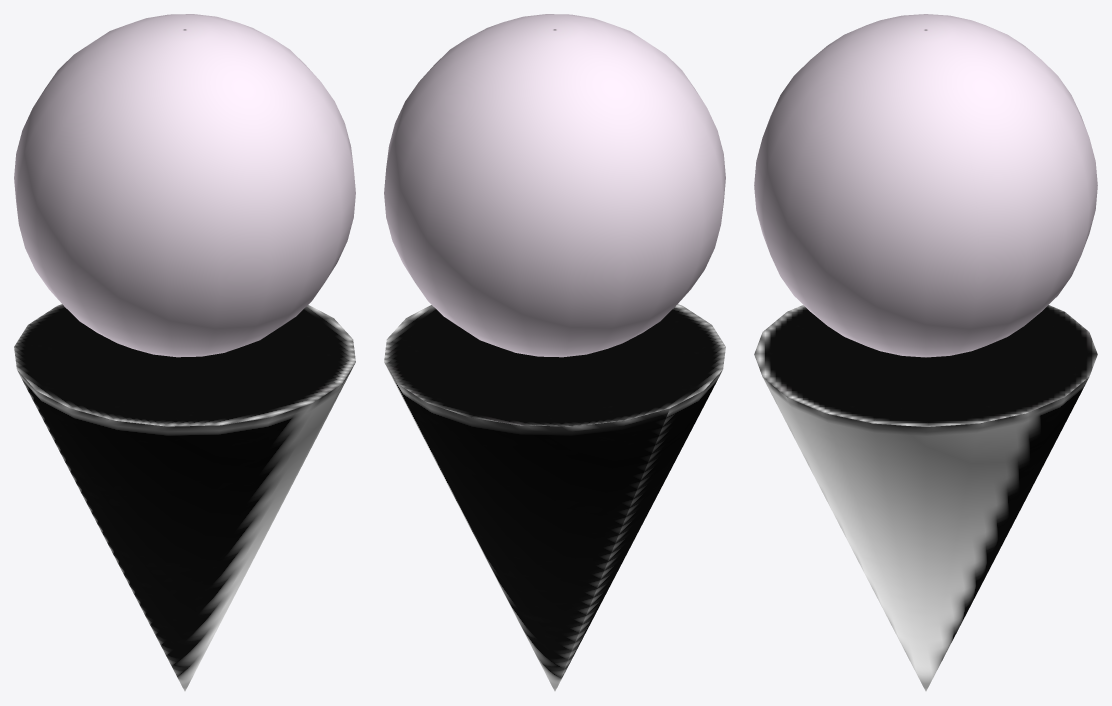
The model's file is People.obj.
3 renders of one model, left to right at view 1: azimuth 30°, elevation 25°; view 2: azimuth 150°, elevation 25°; view 3: azimuth 270°, elevation 25°, orthographic.
Visible parts, largest first — view 1: textureEditorIsolateSelectSet polySurface1, polySurface1; view 2: textureEditorIsolateSelectSet polySurface1, polySurface1; view 3: textureEditorIsolateSelectSet polySurface1, polySurface1.
Part boxes in pixels (box(x1,y1,x2,y2)): textureEditorIsolateSelectSet polySurface1: box(14, 14, 355, 357); polySurface1: box(14, 304, 355, 691); textureEditorIsolateSelectSet polySurface1: box(384, 14, 725, 357); polySurface1: box(384, 304, 725, 691); textureEditorIsolateSelectSet polySurface1: box(754, 14, 1097, 357); polySurface1: box(754, 305, 1097, 691).
Bounding box in the file's own units: 1.2 × 2.55 × 1.2.
